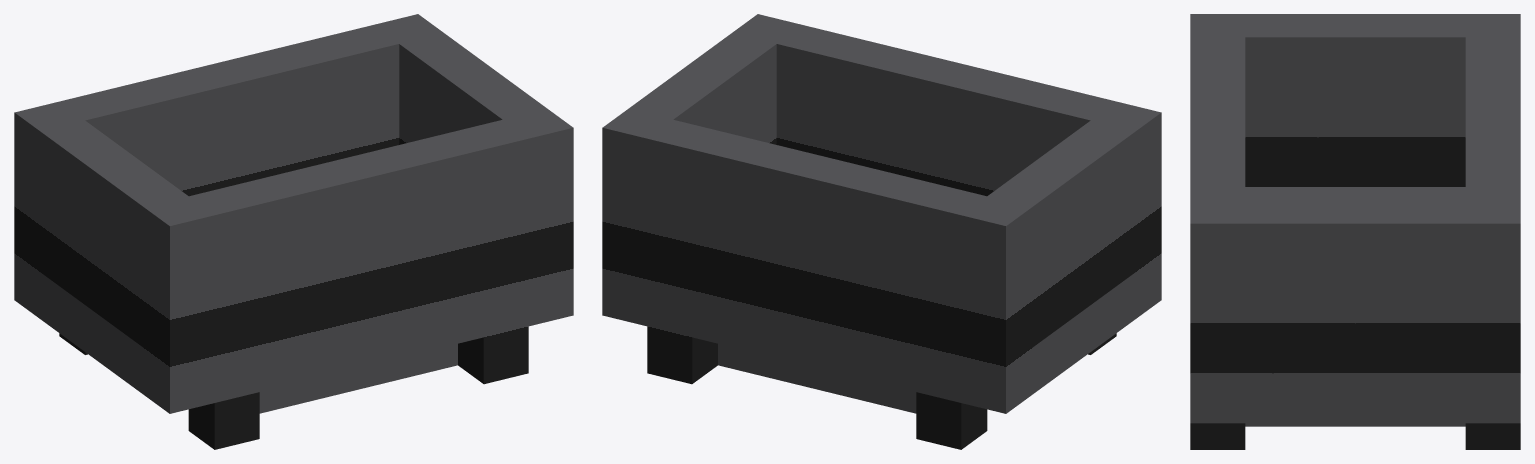
Rendered from mine_cart_01.fbx.
3 views of the same model, side by side, from view 1: azimuth 30°, elevation 25°; view 2: azimuth 150°, elevation 25°; view 3: azimuth 270°, elevation 25° (orthographic). The views are drawn at different scales.
Visible parts, largest first — view 1: mine_cart_01_0; view 2: mine_cart_01_0; view 3: mine_cart_01_0.
Boxes of the visible parts, x1,y1,x2,y2 form: mine_cart_01_0: (14,14,573,449); mine_cart_01_0: (602,14,1161,449); mine_cart_01_0: (1190,14,1520,449).
Size of the model in its own units: 900 by 600 by 500.
